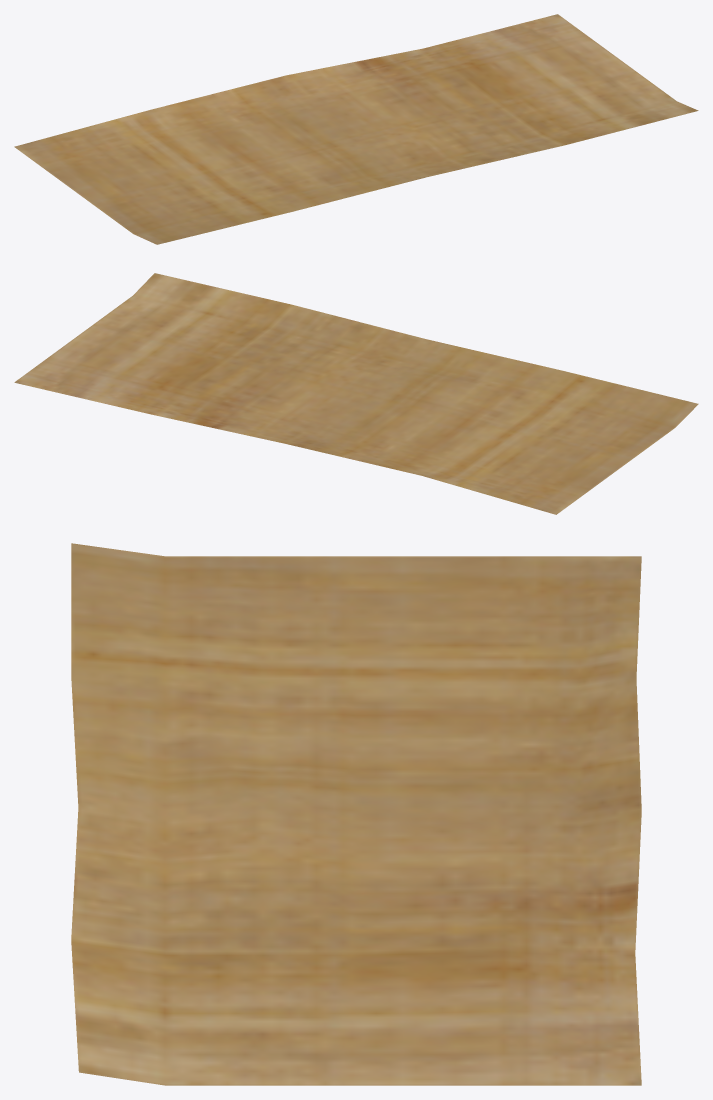
The model's file is parchment.glb.
3 renders of one model, top to bottom at view 1: azimuth 30°, elevation 25°; view 2: azimuth 150°, elevation 25°; view 3: azimuth 270°, elevation 25°, orthographic. The views are drawn at different scales.
Parts seen in each view (by area): view 1: Grid; view 2: Grid; view 3: Grid.
Boxes of the visible parts, x1=… form: Grid: x1=14, y1=14, x2=698, y2=244; Grid: x1=14, y1=273, x2=698, y2=514; Grid: x1=71, y1=543, x2=641, y2=1085.
Bounding box in the file's own units: 2 × 0.0233 × 0.9111.
Materials: 1 (1 with a texture image).
